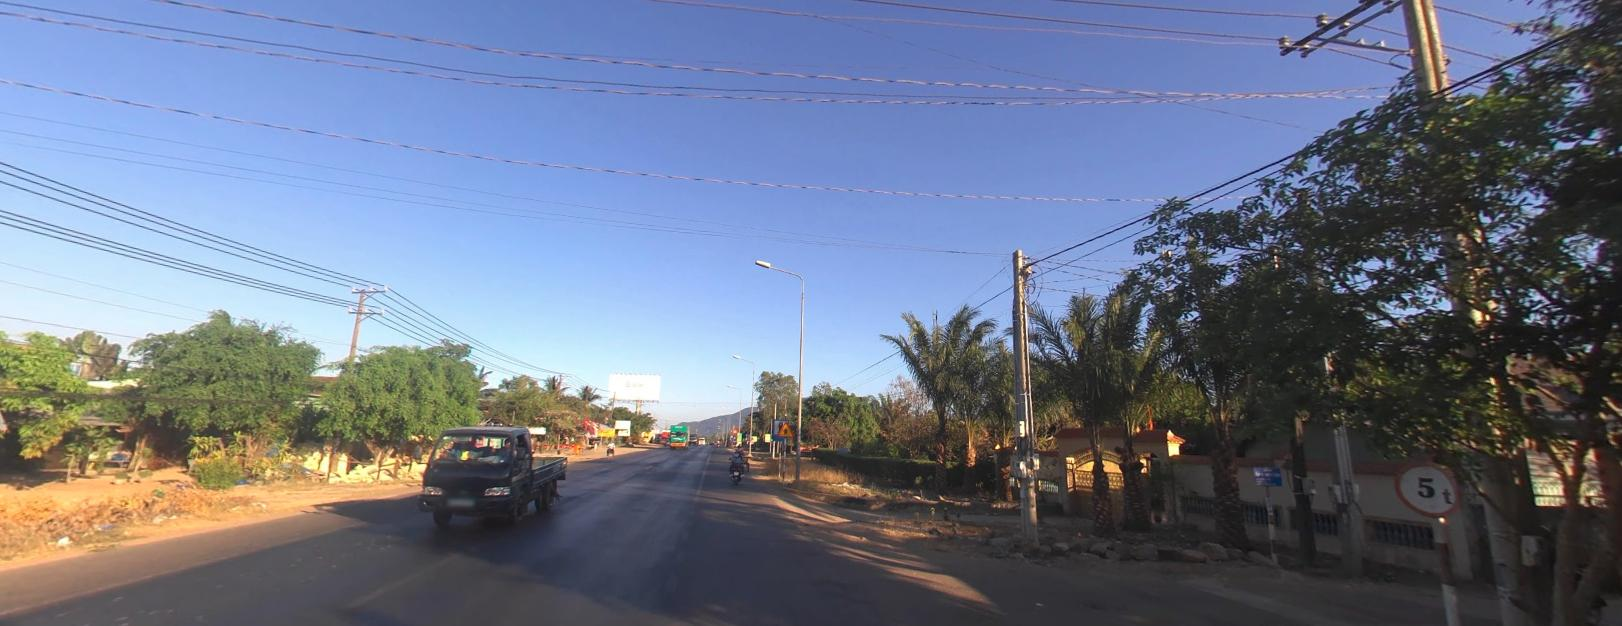Cam con lai: (1393, 460, 1459, 517)
Nguy hiem: (776, 420, 794, 436)
